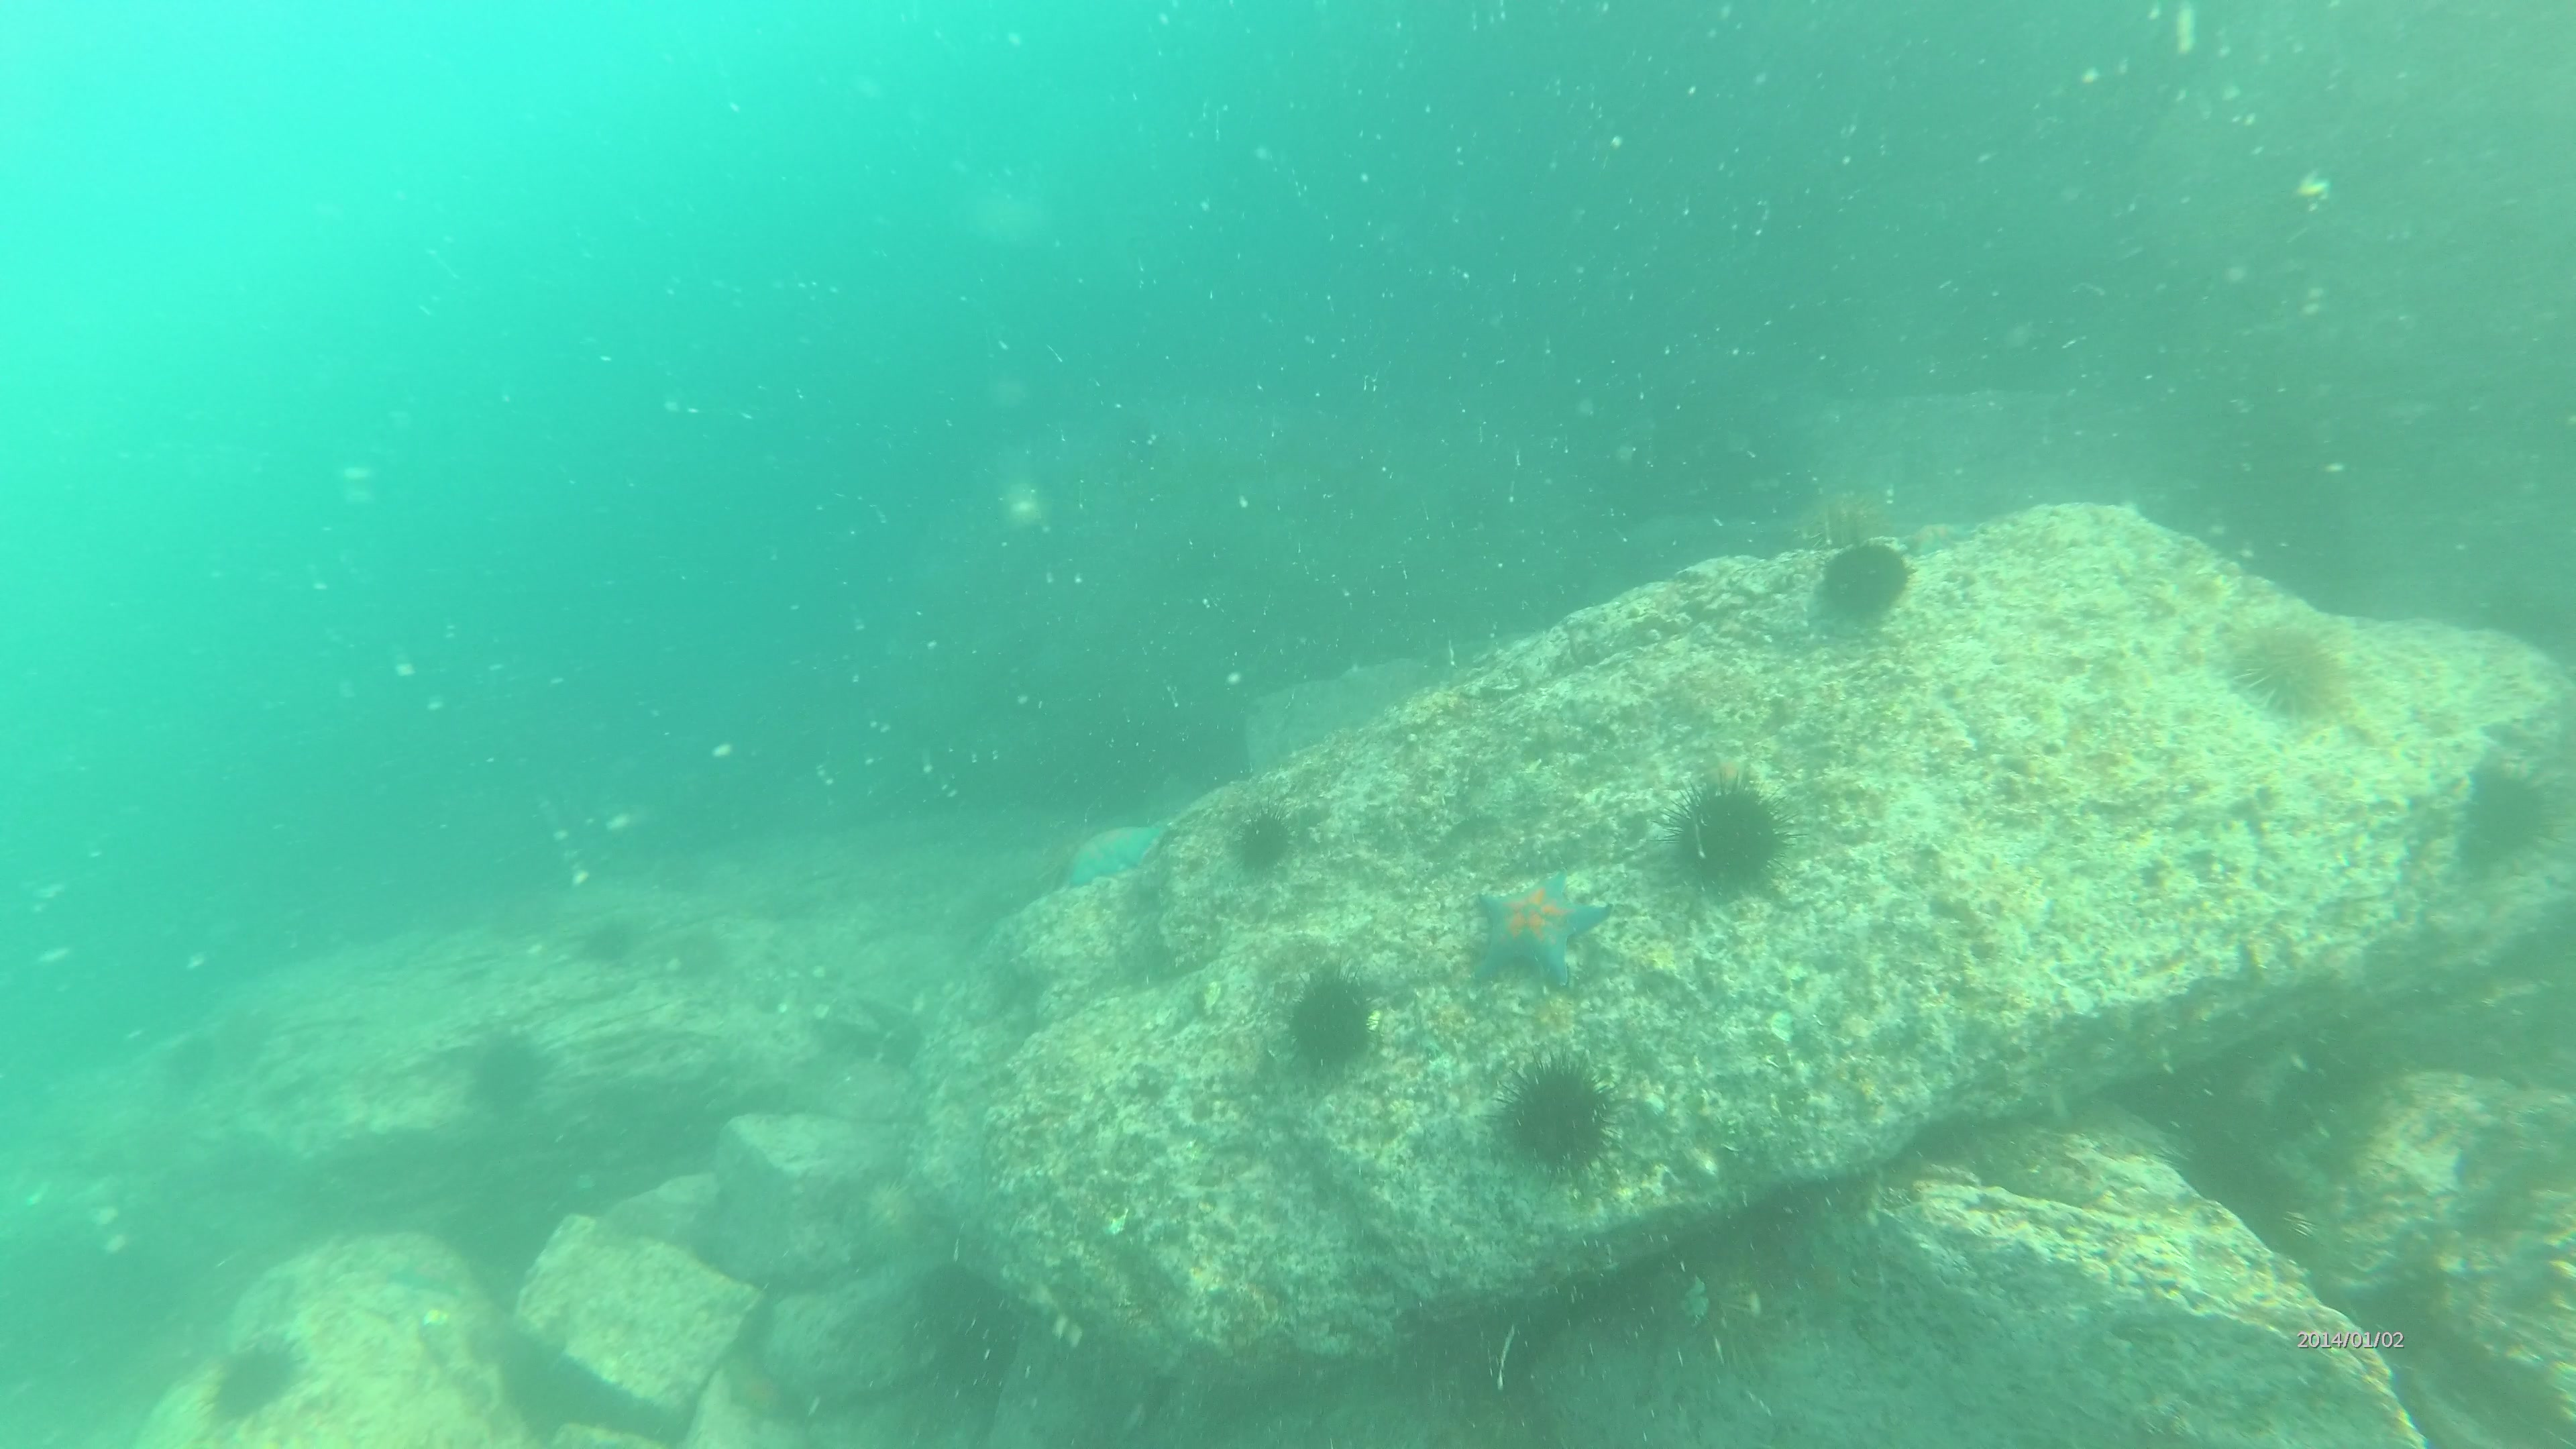echinus: (1679, 768, 1799, 885), (1506, 1054, 1626, 1162), (2226, 614, 2358, 708), (2468, 757, 2560, 883), (1279, 977, 1387, 1072), (203, 1332, 311, 1410), (1813, 541, 1918, 617), (458, 1010, 538, 1093), (1238, 805, 1286, 867)
starfish: (1461, 874, 1608, 970), (1067, 821, 1157, 885)
